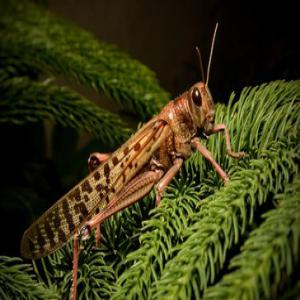locust: (26, 64, 227, 272)
